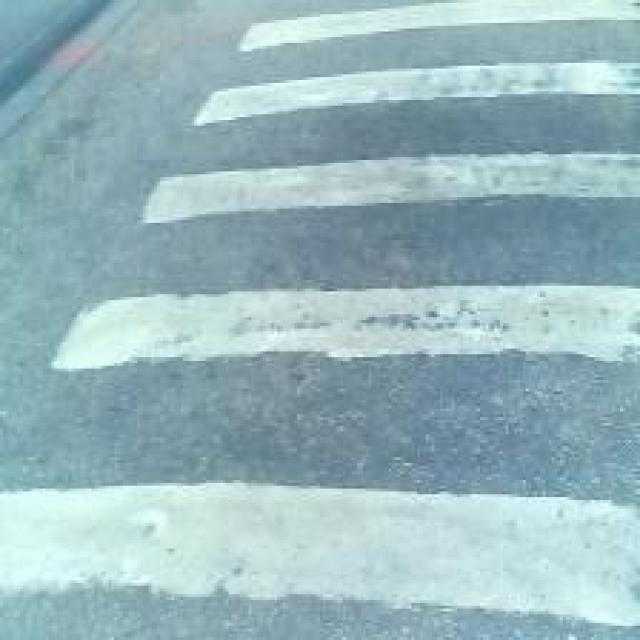crosswalk: (9, 6, 640, 633)
